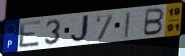3: (44, 18, 62, 46)
7: (95, 12, 115, 42)
B: (142, 8, 166, 37)
E: (18, 19, 43, 49)
I: (124, 10, 133, 39)
J: (70, 13, 93, 45)
